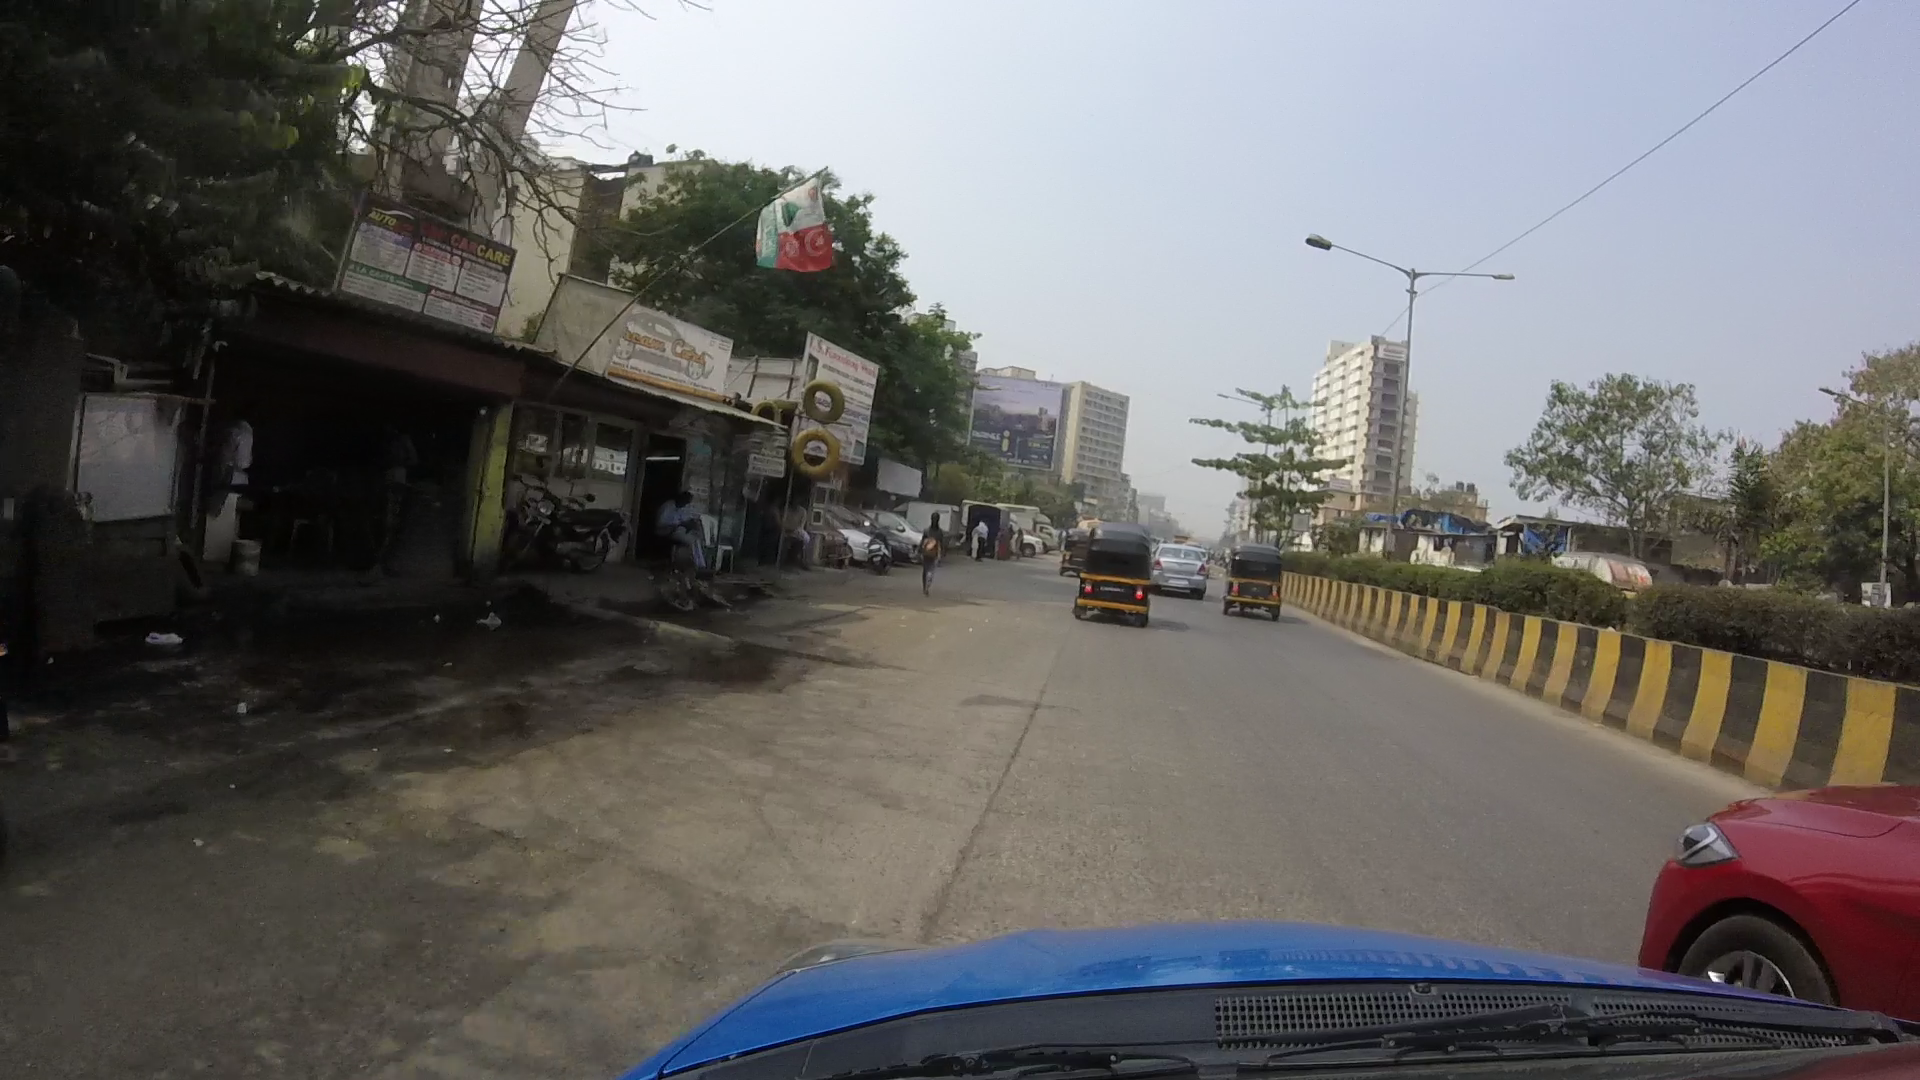car: (1669, 771, 1920, 1011), (1149, 535, 1213, 592)
rickshaw: (1062, 516, 1158, 626), (1218, 533, 1290, 624)
